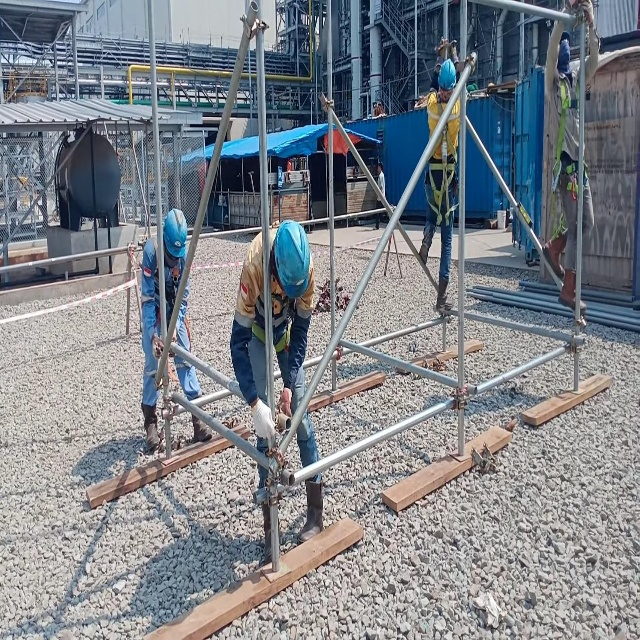Arnes_seguridad: (419, 87, 461, 230), (550, 66, 591, 209)
